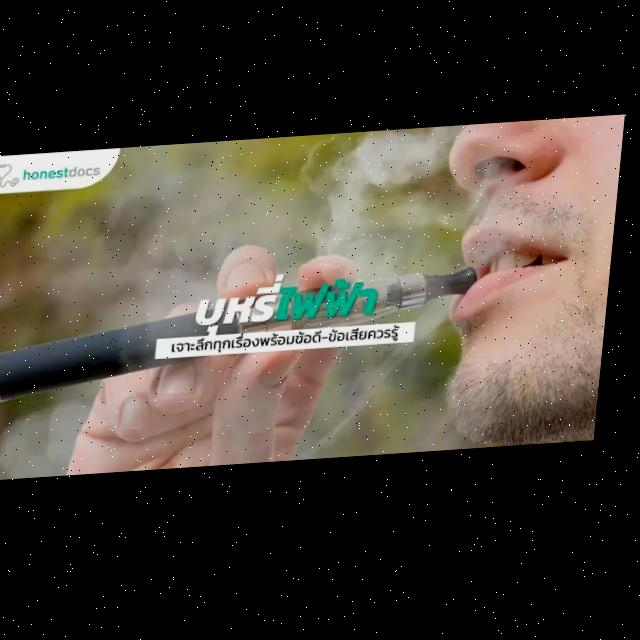vape: (0, 274, 483, 404)
